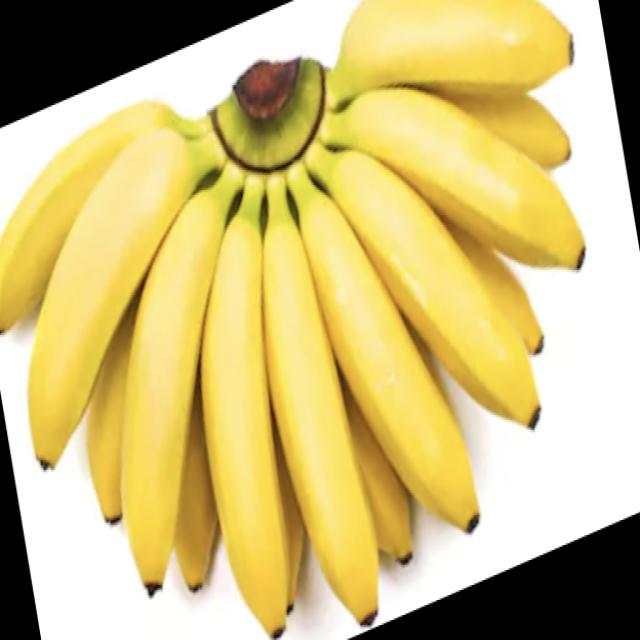god quality banana: (1, 2, 587, 636)
